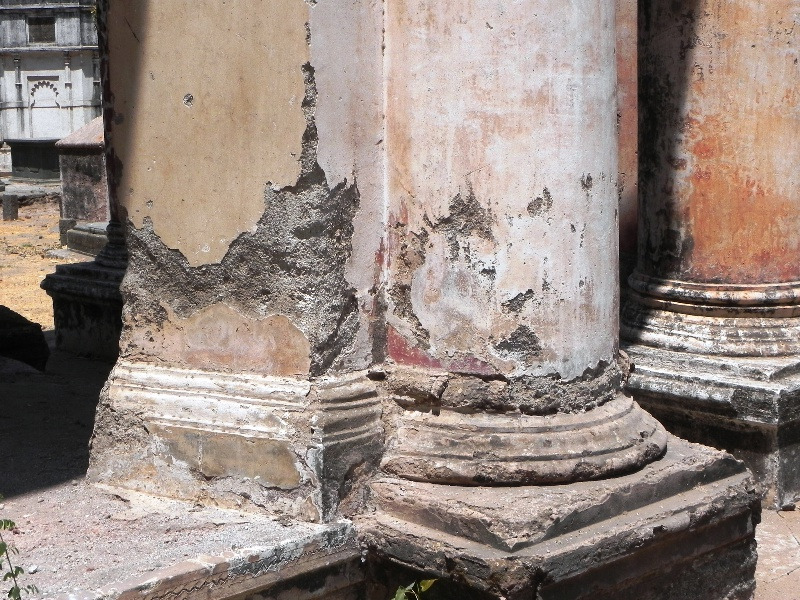Spalling: (114, 120, 364, 374), (419, 350, 633, 414), (395, 215, 431, 338)
